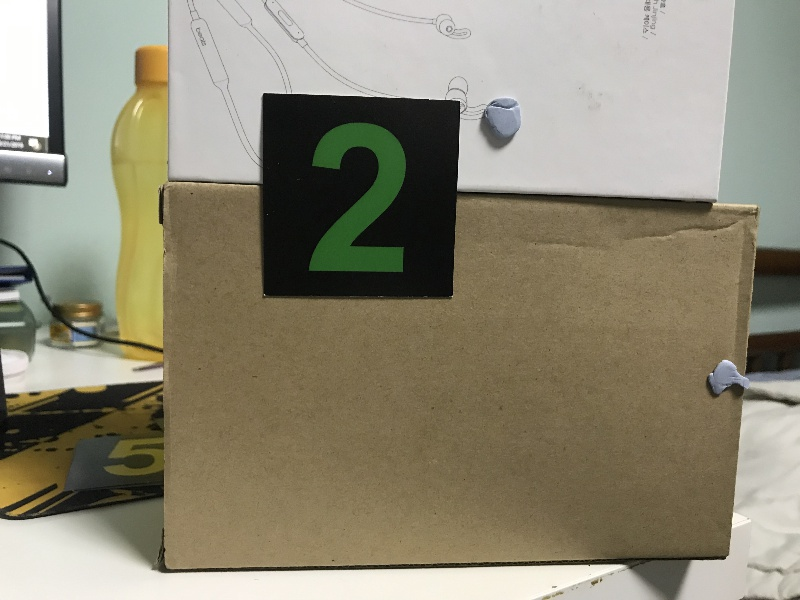Two-7: (266, 101, 450, 292)
